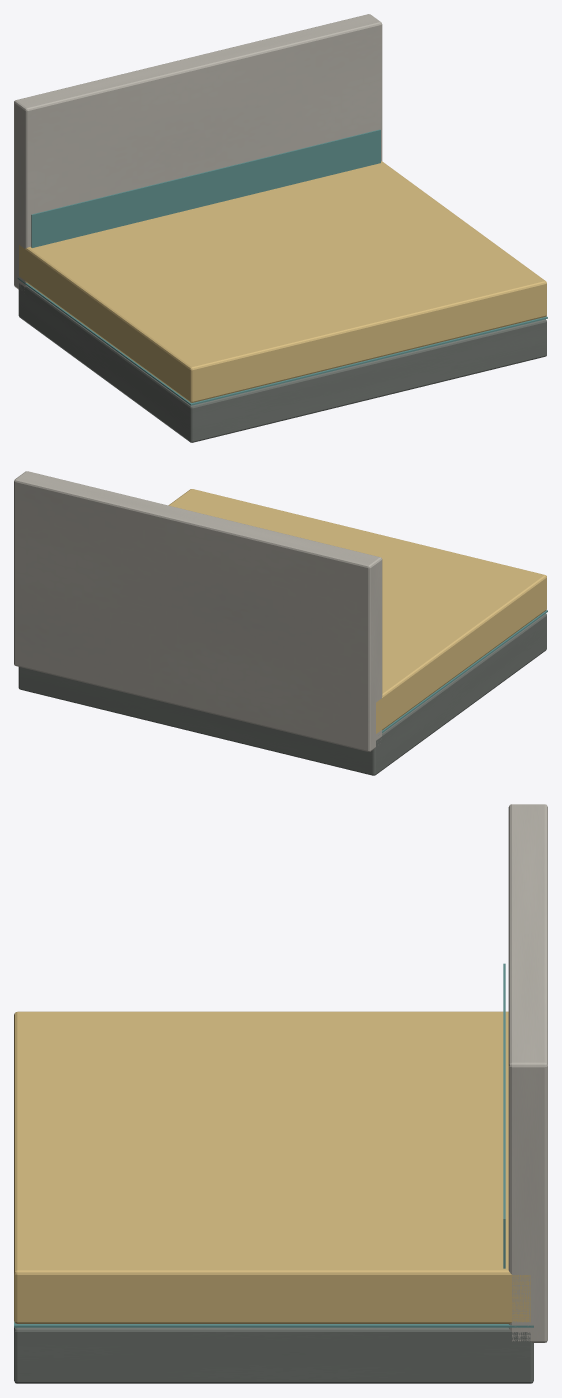
The model's file is modell.glb.
The picture shows the model from 3 angles, top to bottom: view 1: azimuth 30°, elevation 25°; view 2: azimuth 150°, elevation 25°; view 3: azimuth 270°, elevation 25°; orthographic projection. The views are drawn at different scales.
Parts seen in each view (by area): view 1: g04-daemmung_daemmung, g04-wand_, g04-untergrund_tragwerk, g04-anschluss_luftdichtheit, g04-luftdichtheit_luftdichtheit; view 2: g04-wand_, g04-daemmung_daemmung, g04-untergrund_tragwerk, g04-luftdichtheit_luftdichtheit; view 3: g04-daemmung_daemmung, g04-untergrund_tragwerk, g04-wand_, g04-luftdichtheit_luftdichtheit, g04-anschluss_luftdichtheit.
Boxes of the visible parts, x1=… form: g04-daemmung_daemmung: x1=19, y1=161, x2=546, y2=402; g04-wand_: x1=14, y1=14, x2=382, y2=290; g04-untergrund_tragwerk: x1=18, y1=283, x2=546, y2=442; g04-anschluss_luftdichtheit: x1=31, y1=129, x2=380, y2=247; g04-luftdichtheit_luftdichtheit: x1=17, y1=278, x2=547, y2=405; g04-wand_: x1=14, y1=471, x2=382, y2=751; g04-daemmung_daemmung: x1=168, y1=489, x2=546, y2=733; g04-untergrund_tragwerk: x1=18, y1=613, x2=546, y2=775; g04-luftdichtheit_luftdichtheit: x1=382, y1=610, x2=547, y2=732; g04-daemmung_daemmung: x1=14, y1=1011, x2=530, y2=1323; g04-untergrund_tragwerk: x1=14, y1=1327, x2=533, y2=1383; g04-wand_: x1=508, y1=804, x2=547, y2=1342; g04-luftdichtheit_luftdichtheit: x1=14, y1=1321, x2=533, y2=1327; g04-anschluss_luftdichtheit: x1=503, y1=963, x2=505, y2=1268.
Bounding box in the file's own units: 2.2 × 1.26 × 1.9.
4 materials, 2 textured.
